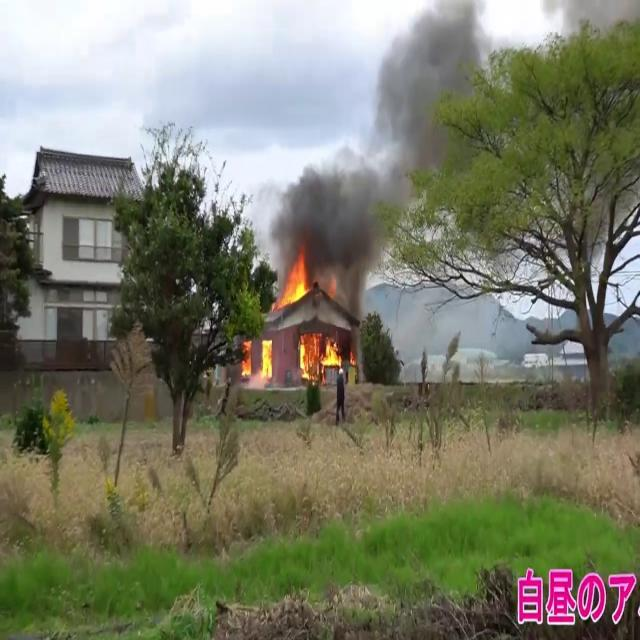Fire: (250, 255, 346, 384), (275, 251, 313, 311)
Smoke: (286, 0, 500, 301)
